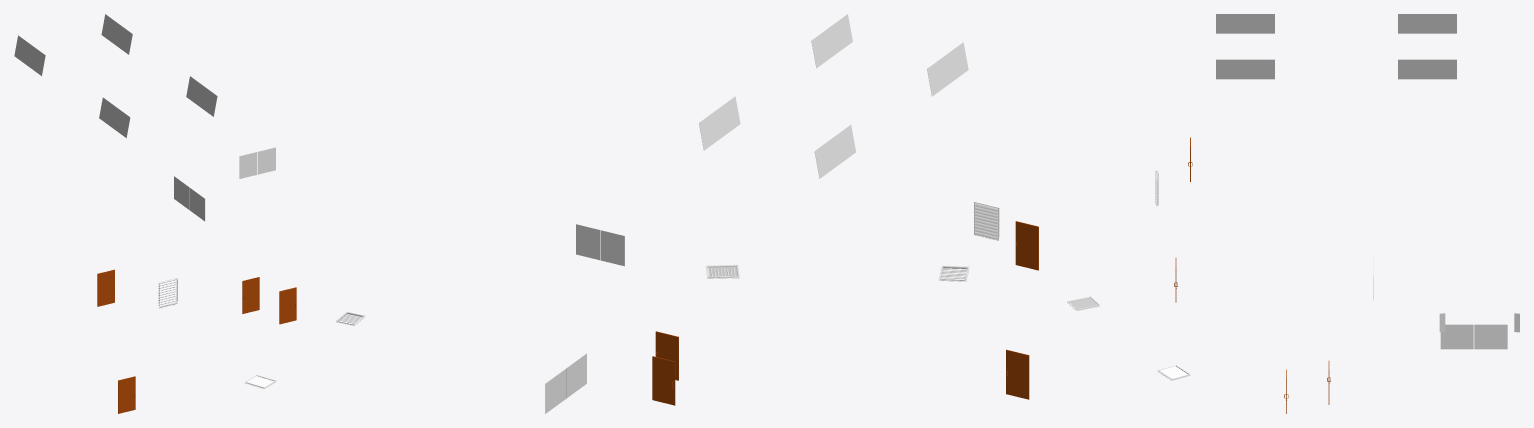
The model's file is interactives.glb.
The picture shows the model from 3 angles, left to right: view 1: azimuth 30°, elevation 25°; view 2: azimuth 150°, elevation 25°; view 3: azimuth 270°, elevation 25°; orthographic projection. The views are drawn at different scales.
Visible parts, largest first — view 1: nuke:door:4, nuke:door:2, nuke:door:5, nuke:door:3, nuke:breakable:11, nuke:breakable:12, nuke:breakable:10, nuke:breakable:9, nuke:breakable:19, nuke:breakable:13, nuke:breakable:16, nuke:breakable:18 (+4 smaller); view 2: nuke:door:4, nuke:door:5, nuke:door:2, nuke:breakable:8, nuke:breakable:12, nuke:breakable:11, nuke:door:3, nuke:breakable:9, nuke:breakable:10, nuke:breakable:17, nuke:breakable:19, nuke:breakable:15 (+5 smaller); view 3: nuke:breakable:9, nuke:breakable:10, nuke:breakable:17, nuke:breakable:20, nuke:breakable:18, nuke:breakable:19, nuke:breakable:14, nuke:breakable:15, nuke:breakable:16, nuke:breakable:13.
Boxes of the visible parts, x1,y1,x2,y2 form: nuke:door:4: [118, 376, 135, 413]; nuke:door:2: [242, 277, 259, 313]; nuke:door:5: [97, 269, 114, 306]; nuke:door:3: [279, 287, 296, 324]; nuke:breakable:11: [239, 152, 257, 178]; nuke:breakable:12: [258, 147, 275, 174]; nuke:breakable:10: [189, 187, 205, 221]; nuke:breakable:9: [174, 176, 189, 209]; nuke:breakable:19: [186, 76, 203, 106]; nuke:breakable:13: [99, 97, 116, 127]; nuke:breakable:16: [28, 45, 45, 75]; nuke:breakable:18: [115, 24, 132, 54]; nuke:door:4: [1006, 349, 1029, 399]; nuke:door:5: [1015, 221, 1038, 270]; nuke:door:2: [652, 356, 675, 405]; nuke:breakable:8: [974, 202, 999, 240]; nuke:breakable:12: [576, 224, 600, 260]; nuke:breakable:11: [600, 230, 624, 266]; nuke:door:3: [655, 331, 678, 380]; nuke:breakable:9: [545, 368, 565, 413]; nuke:breakable:10: [566, 353, 586, 398]; nuke:breakable:17: [699, 109, 722, 150]; nuke:breakable:19: [811, 27, 834, 68]; nuke:breakable:15: [814, 138, 837, 178]; nuke:breakable:9: [1474, 324, 1507, 349]; nuke:breakable:10: [1440, 324, 1473, 349]; nuke:breakable:17: [1427, 59, 1456, 79]; nuke:breakable:20: [1216, 59, 1245, 79]; nuke:breakable:18: [1398, 59, 1427, 79]; nuke:breakable:19: [1245, 59, 1274, 79]; nuke:breakable:14: [1216, 14, 1245, 33]; nuke:breakable:15: [1427, 14, 1456, 33]; nuke:breakable:16: [1398, 14, 1427, 33]; nuke:breakable:13: [1245, 14, 1274, 33].
Size of the model in its own units: 1159 by 918 by 1274.
